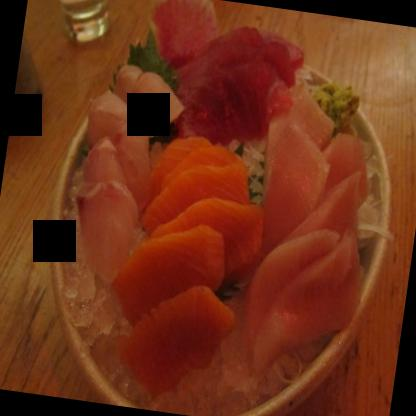salmon: (242, 217, 362, 389), (114, 270, 242, 411), (136, 130, 250, 262), (128, 184, 270, 284), (109, 210, 228, 324), (249, 112, 332, 252)
